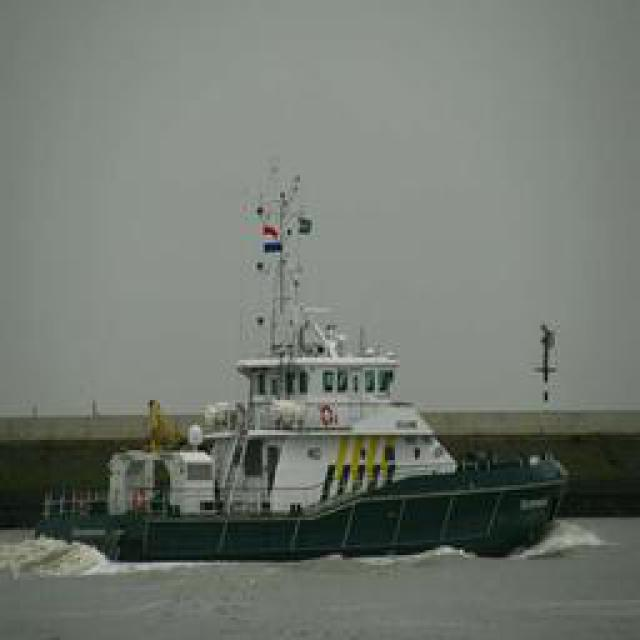Ship: (84, 271, 549, 539)
